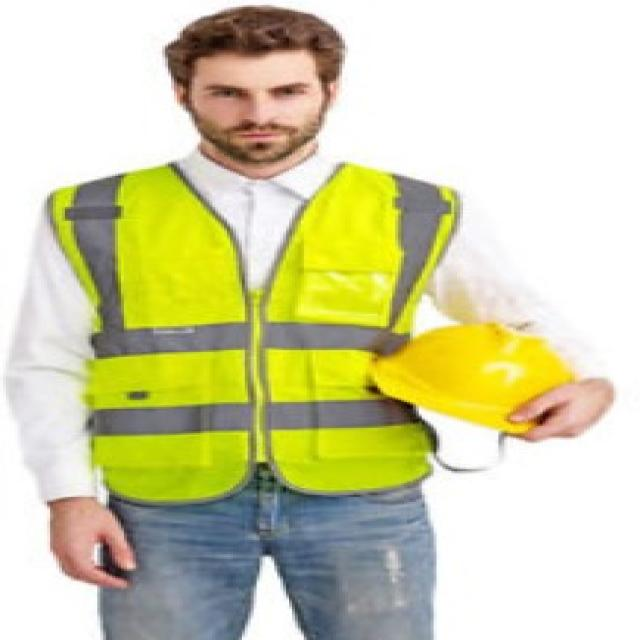not-gloved: (24, 511, 147, 585), (512, 368, 617, 444)
